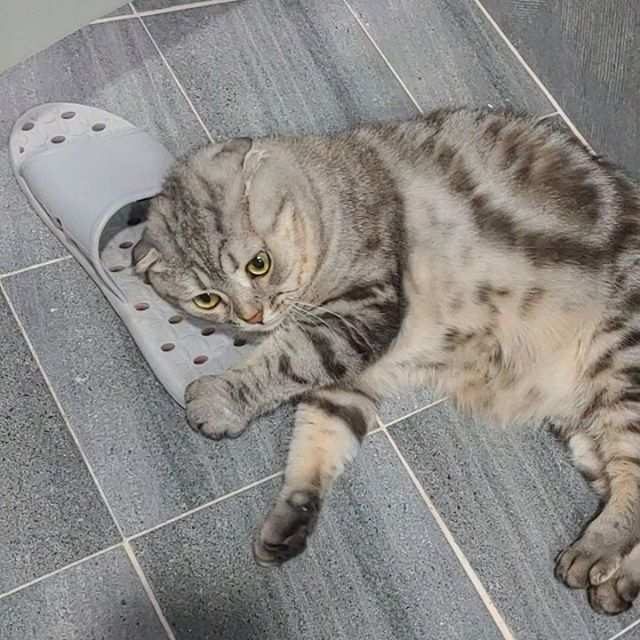cat: (126, 146, 316, 336)
